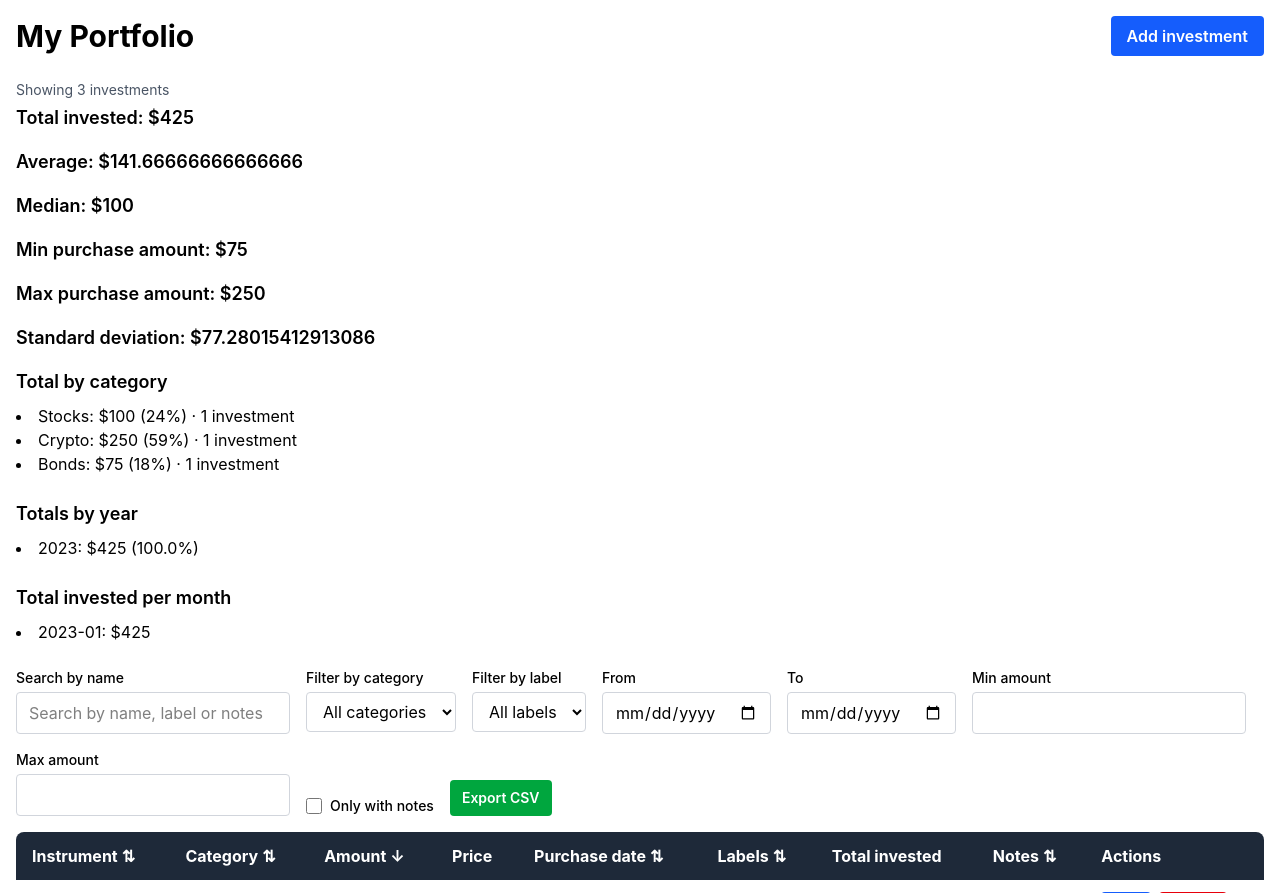
Scenario: HomePage › filtered investments count summary › AC-002: updates the count when a category filter narrows the list
The image size is (1280, 893).
Expected: the text "Showing 3 investments" is shown, [16,81,169,98]
Select "Stocks" in the dropdown labelled "Filter by category" at point(381, 712), box [306,692,456,732]
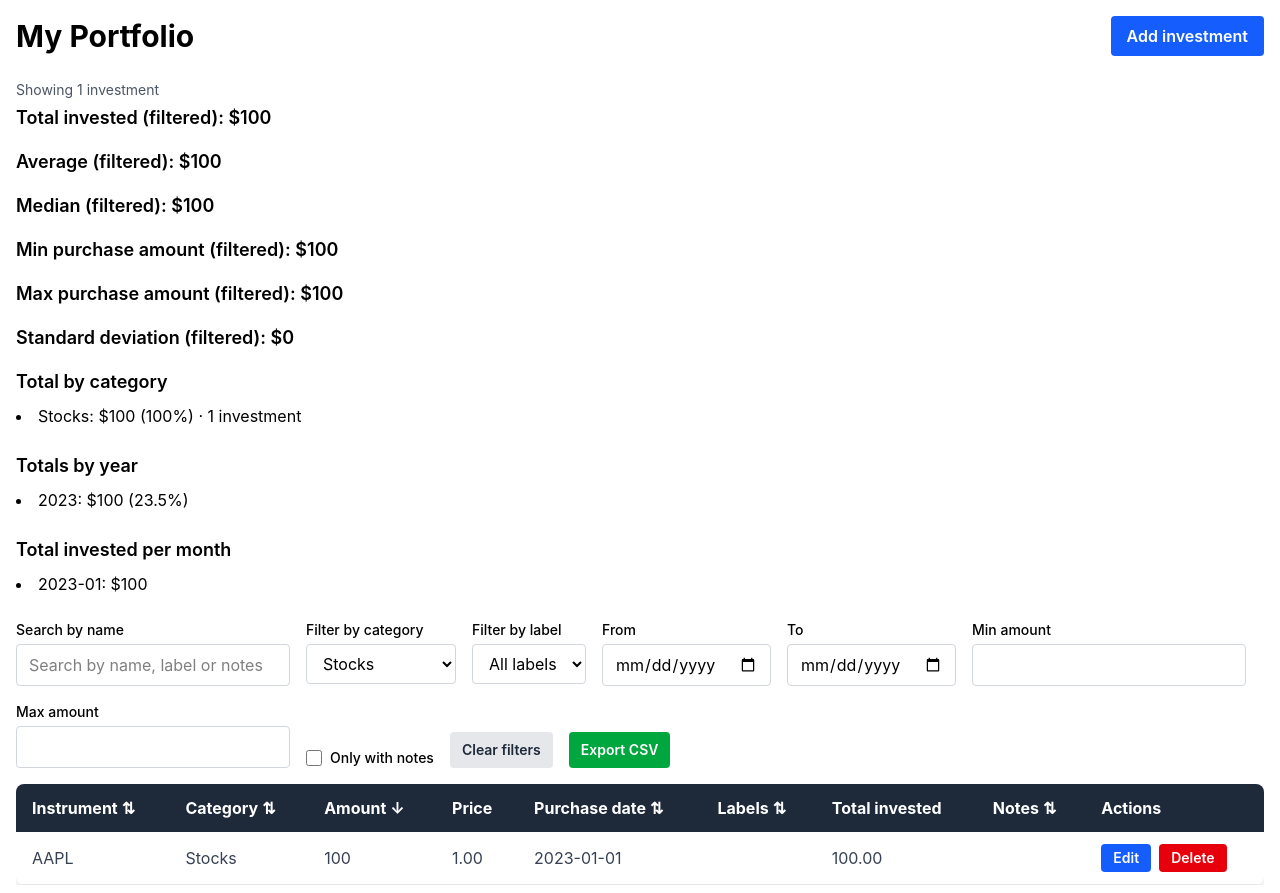
Expected: the text "Showing 1 investment" is shown, [16,81,159,98]
